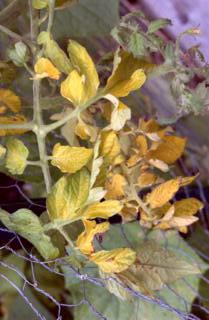Tomato leaf yellow virus: (70, 231, 206, 320), (8, 206, 62, 277), (45, 158, 92, 227), (59, 69, 99, 113)
